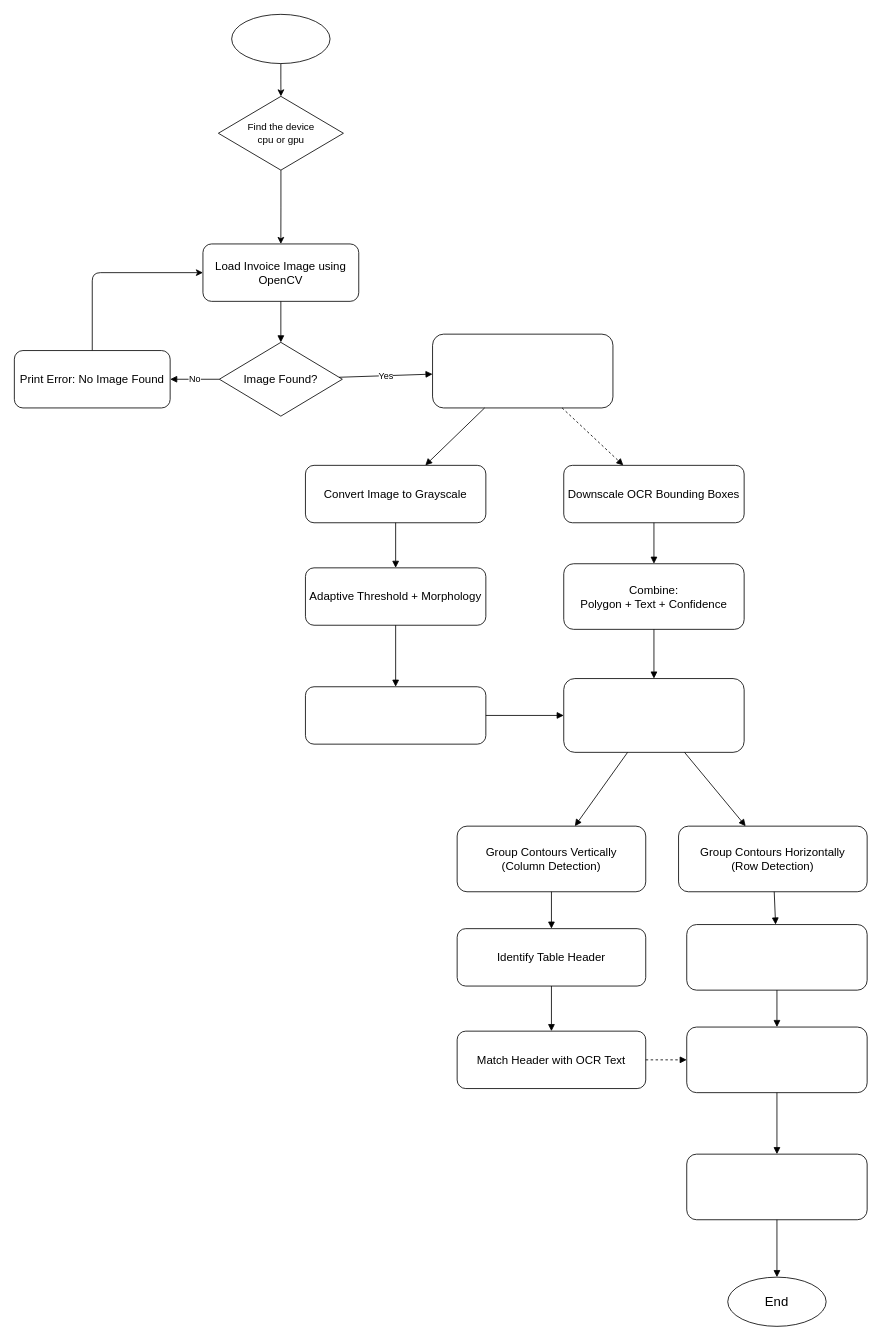
This 882x1341 diagram has some shape labels left out. The shapes that lost their labels are listed below. From the top down, each one's box as (x1, y1, x2, y2) in pixels, then its label:
(231, 14, 330, 64): Start
(432, 333, 613, 408): Run PaddleOCR Extract Text + Bounding Boxes
(305, 686, 486, 744): Detect Table Contours using OpenCV
(563, 678, 744, 752): Calculate Overlap % OCR Box vs Table Cell
(686, 924, 867, 990): Arrange OCR Text Line by Line
(686, 1026, 867, 1093): Send OCR Text to Llama.cpp LLM
(686, 1153, 867, 1220): Extract Products Return Structured JSON
